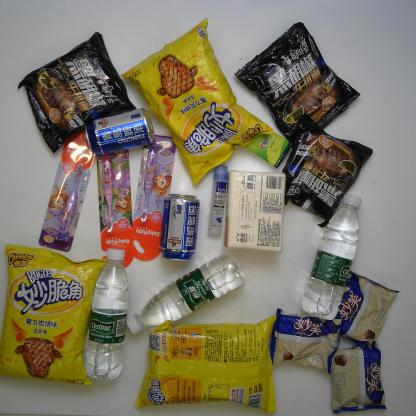Alcohol: (84, 105, 158, 153), (158, 194, 200, 262)
Dessert: (326, 268, 399, 351), (264, 306, 343, 375), (325, 340, 388, 414)
Drink: (126, 252, 244, 334), (301, 194, 363, 319), (84, 249, 130, 379)
Instant Noodles: (233, 20, 360, 144), (17, 31, 136, 153), (283, 113, 374, 230)
Personal Hygiene: (39, 115, 110, 253), (128, 134, 176, 261), (94, 144, 134, 269)
Puffed Food: (120, 17, 274, 188), (2, 242, 108, 389), (132, 318, 280, 411)
Stationery: (207, 166, 228, 238)
Tissue: (226, 169, 285, 253), (240, 125, 294, 168)
